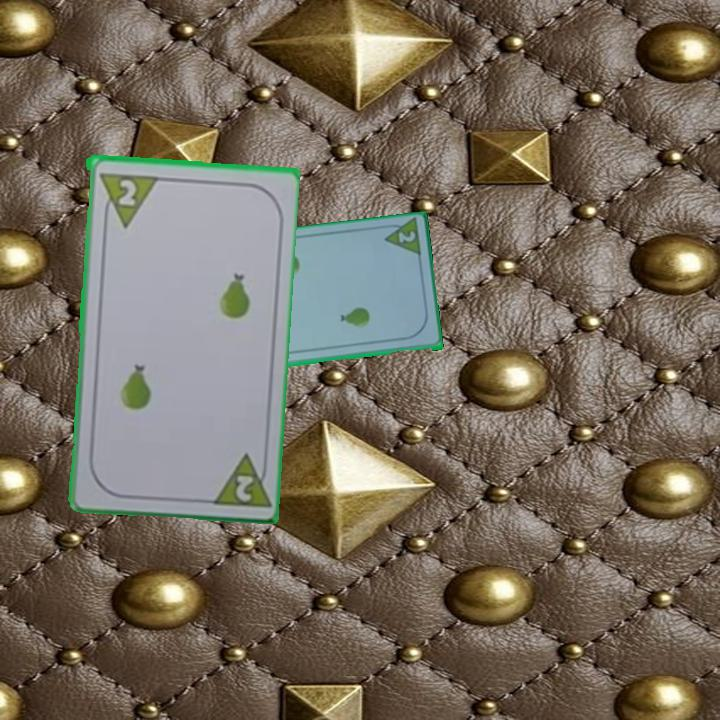2p: (378, 217, 423, 261), (114, 175, 139, 209), (231, 471, 256, 504)
